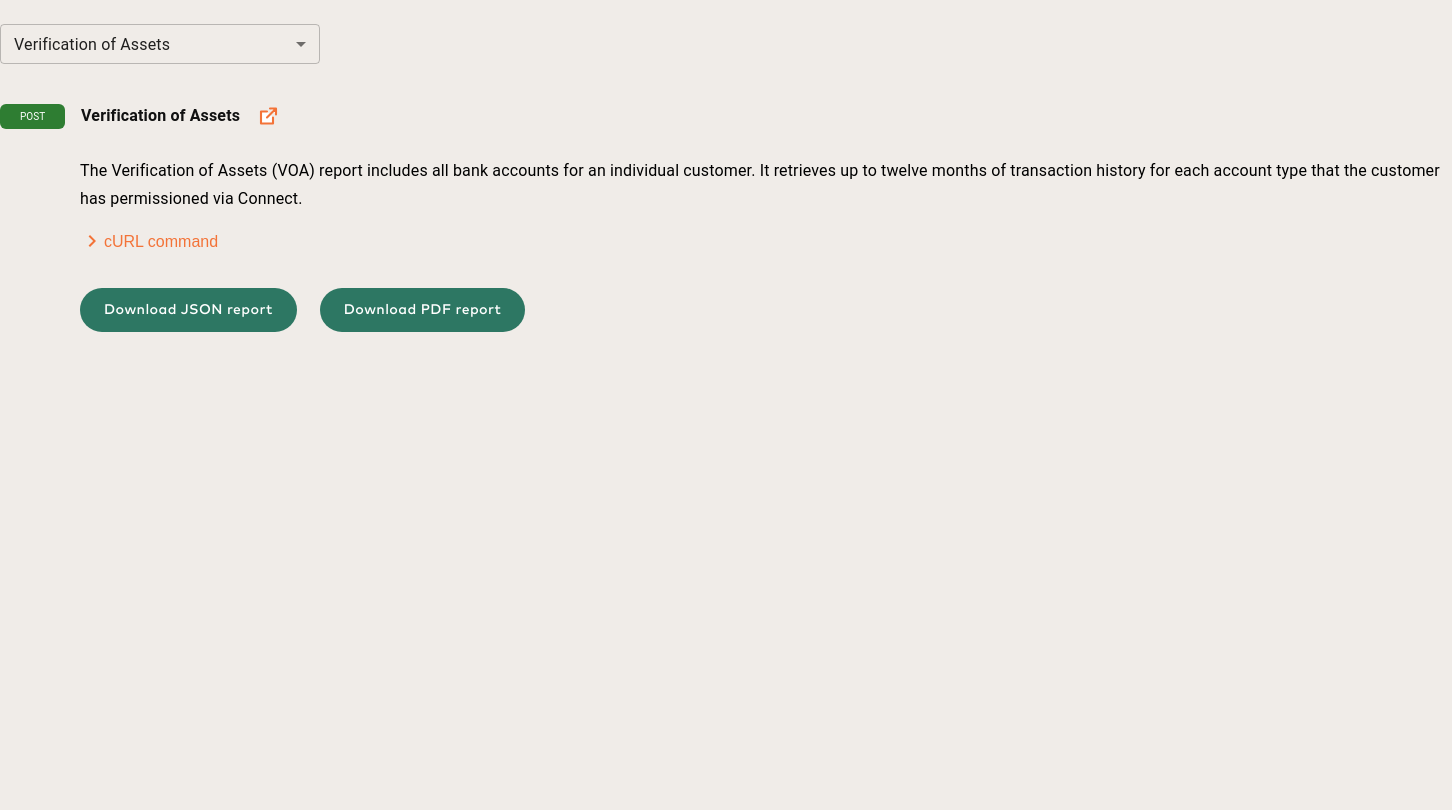
Test case: Testing manage component › should download pdf report
Click the dropdown at {"x": 92, "y": 44}, box [14,34,170,54]
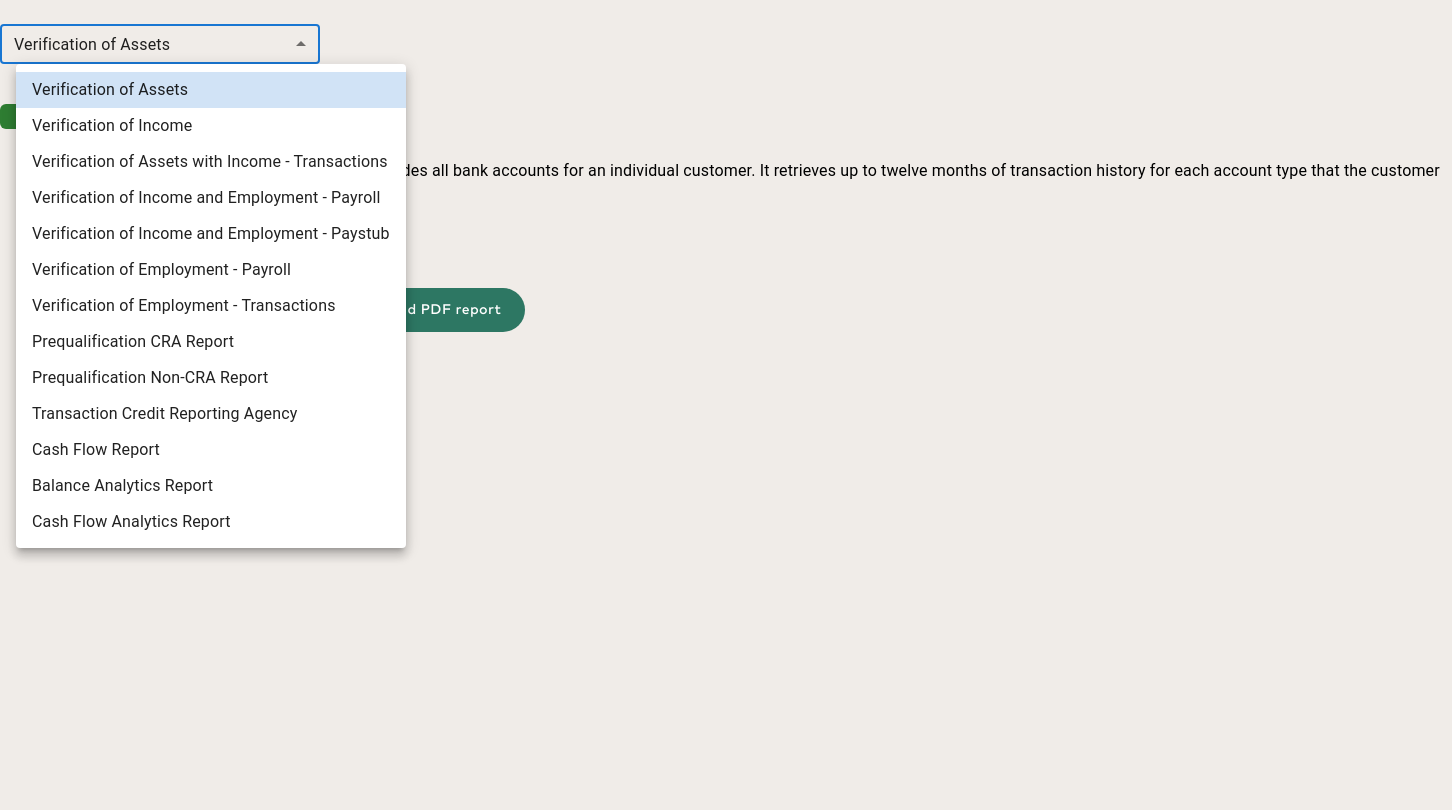
Click the option "Verification of Income" at {"x": 112, "y": 126}, box [32,116,192,135]
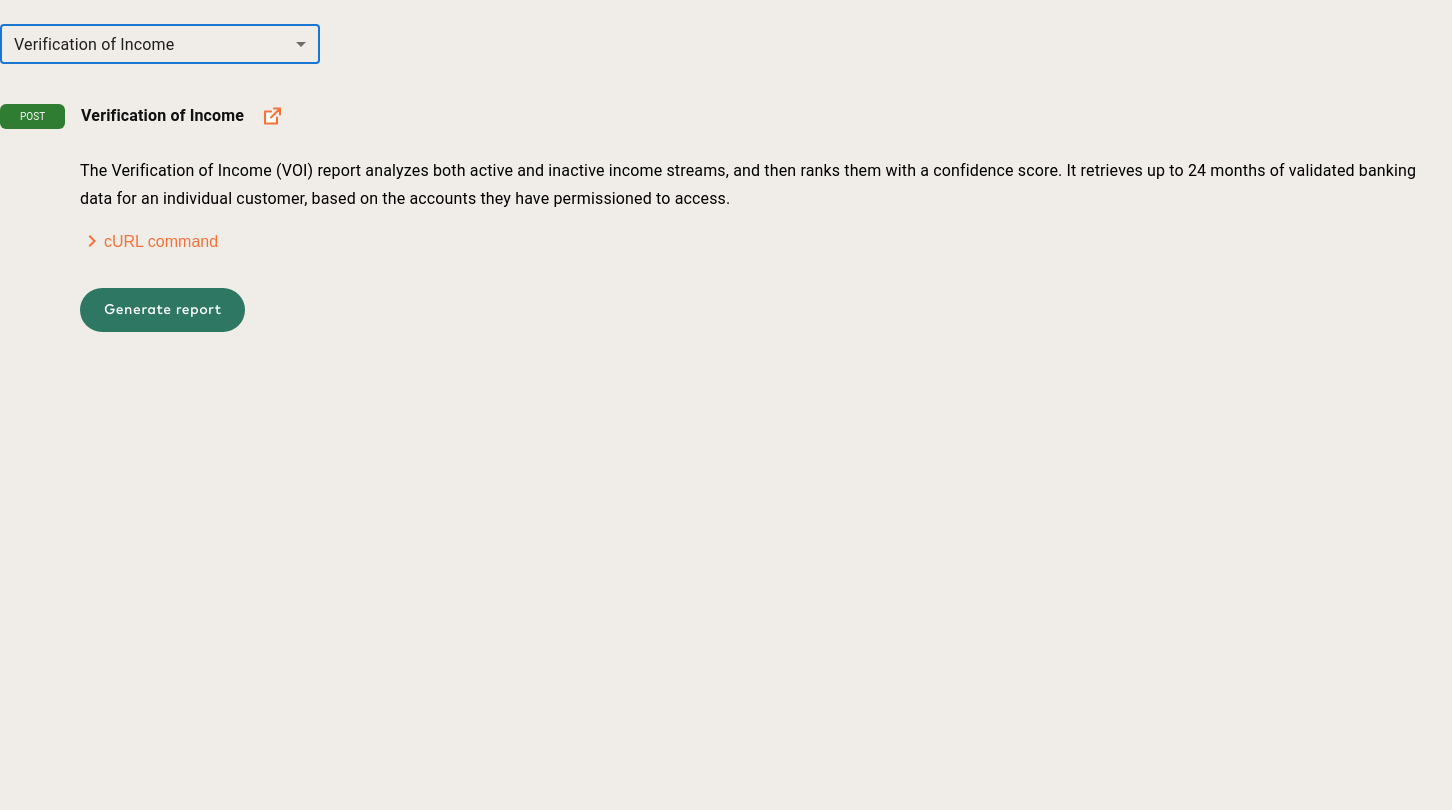
expect the button "Generate report" is shown: met, box [80,288,245,332]
